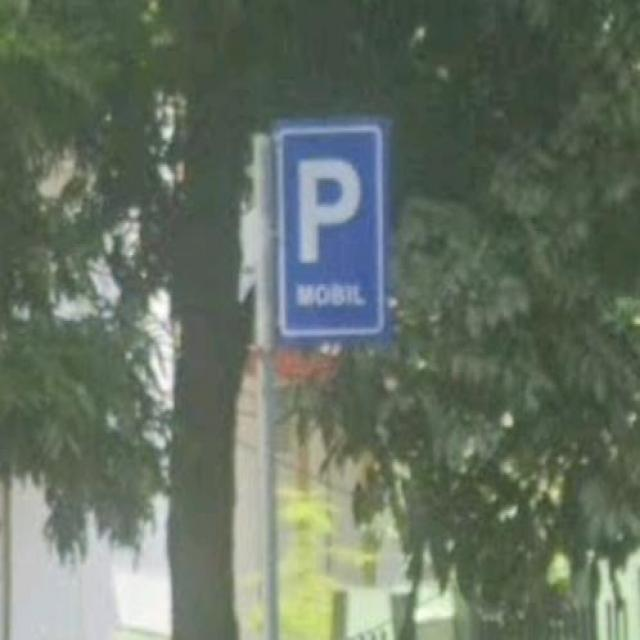traffic sign: (276, 124, 386, 340)
